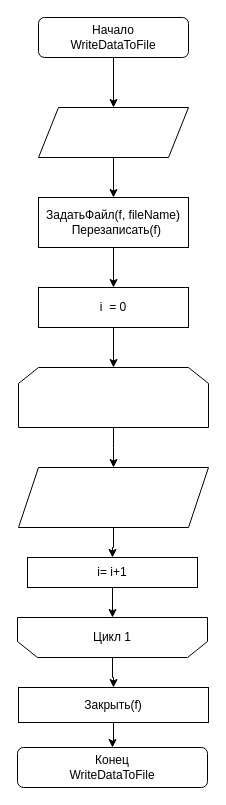
The diagram is 226 pixels wide and 805 high, and some of its shapes have lost their labels. The box of each missing label's shape, as (x1, y1, x2, y2) in pixels:
Ввести filename,arr: (38, 106, 188, 158)
ЗаписатьВФайл(f, arr[i]): (18, 466, 208, 528)
Цикл 1 (i = НаибольшийЭлемент(arr)+1): (18, 366, 208, 428)
